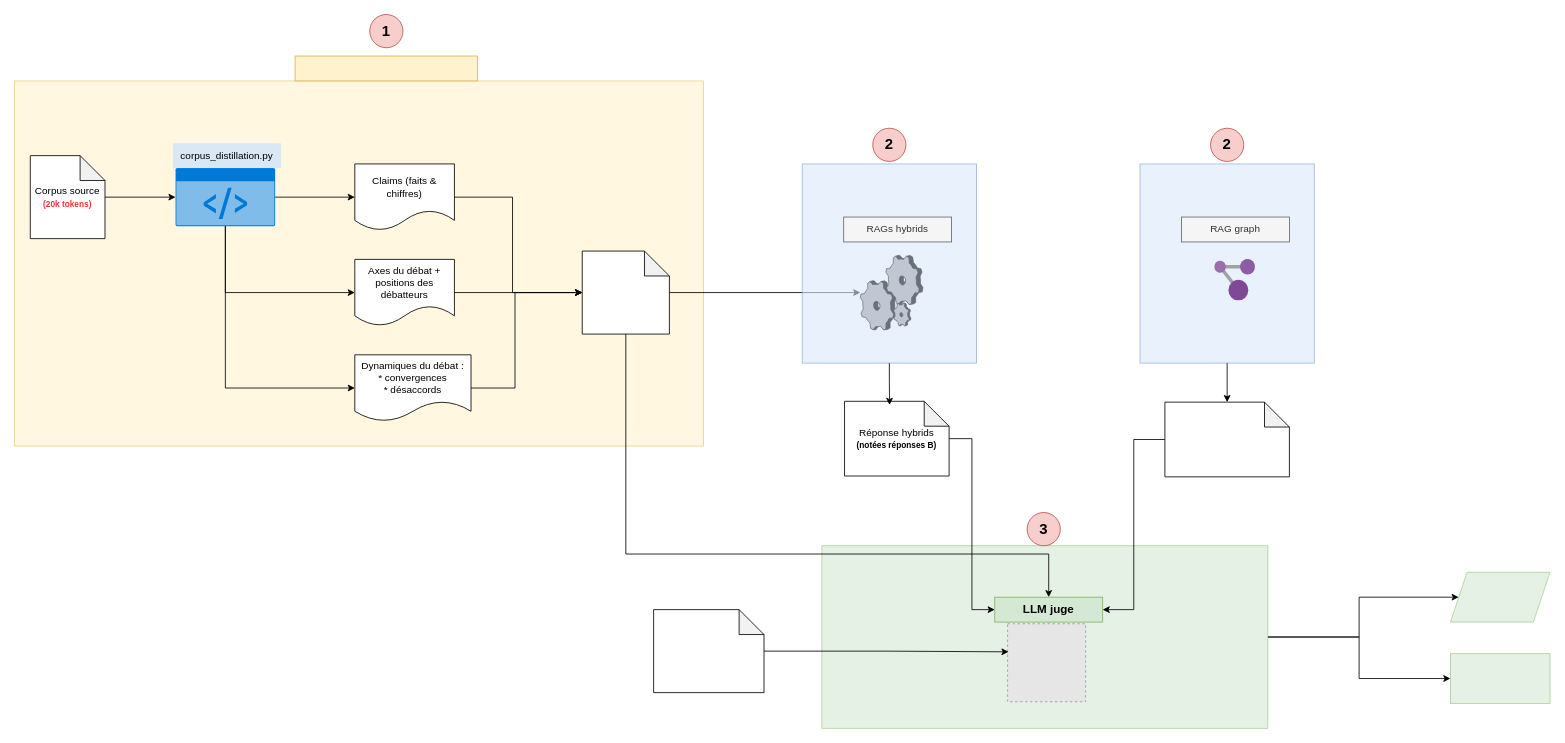
This 1565x743 diagram has some shape labels left out. Grey dashed boxes stand in for pictures. Here are the shapes that lost their labels. From the top down, the centre of each, then its label:
point 386,68: Production du corpus distillé
point 225,197: Script
point 625,292: Corpus distillé (3 à 4k tokens)
point 1226,439: Réponse graph (notées réponses B)
point 1500,596: Score réponse A
point 708,651: Réponse de référence (notée "réponse A")
point 1500,678: Score réponse B
